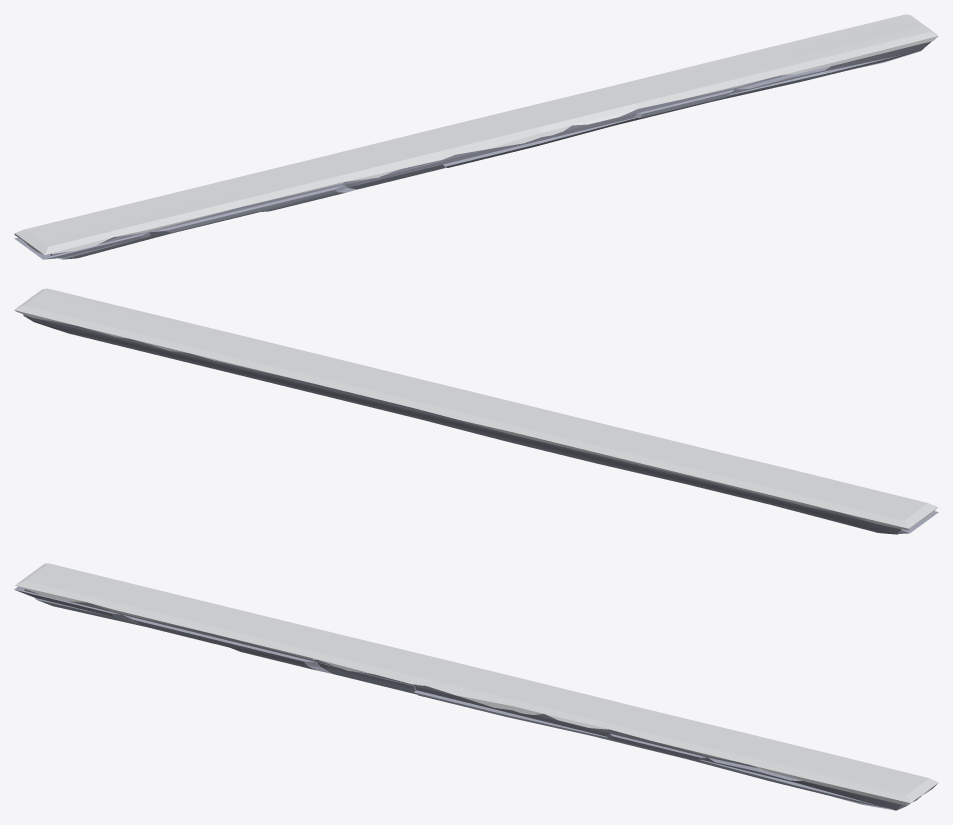
The model's file is Mountain_bovenplatform_leeg.fbx.
The picture shows the model from 3 angles, top to bottom: view 1: azimuth 30°, elevation 25°; view 2: azimuth 150°, elevation 25°; view 3: azimuth 330°, elevation 25°; orthographic projection.
Visible parts, largest first — view 1: polySurface2008; view 2: polySurface2008; view 3: polySurface2008.
Part boxes in pixels (x1,y1,x2,y2): polySurface2008: [14, 14, 938, 259]; polySurface2008: [14, 288, 938, 534]; polySurface2008: [14, 563, 938, 810].
Size of the model in its own units: 131 by 2.87 by 7.98.
